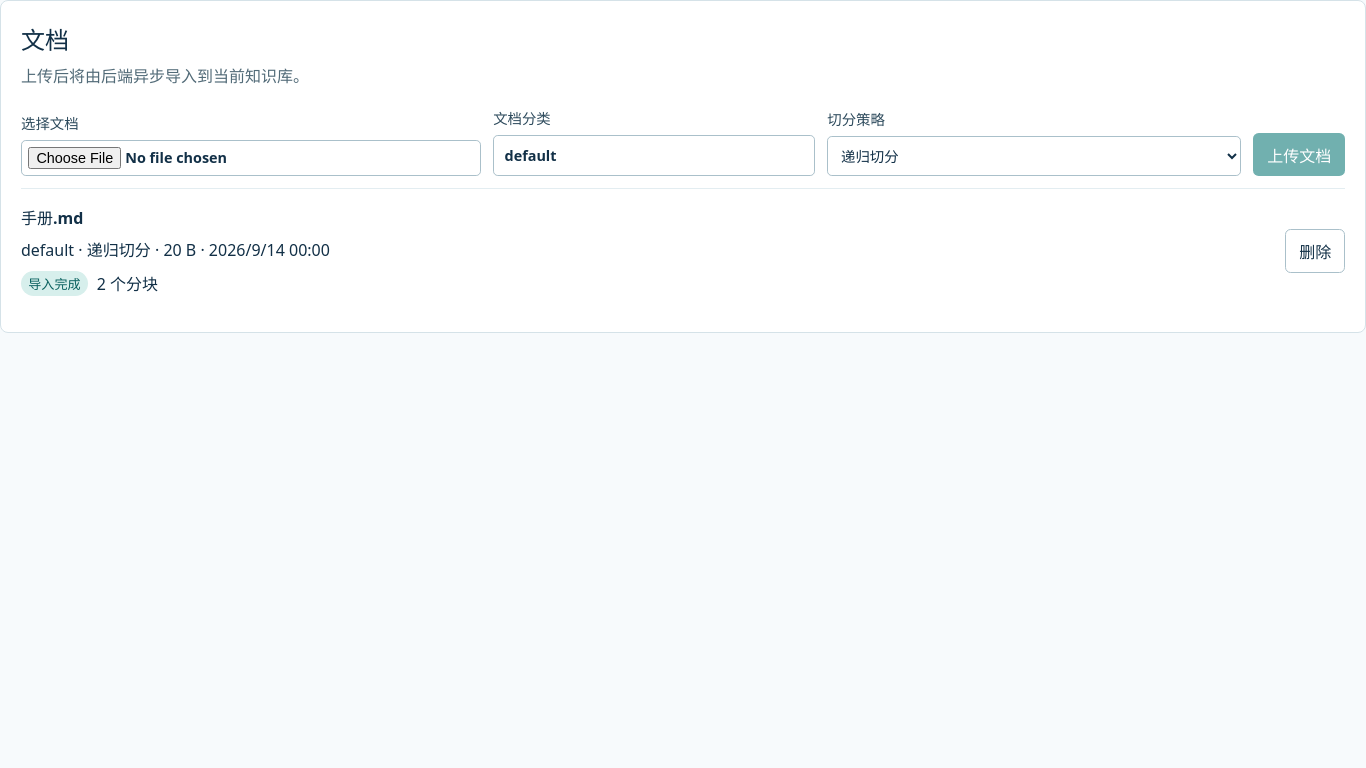
Scenario: 删除文档先要求确认
What coordinates should you click on to do the following:
click the button with aria-label "删除 手册.md"
I would click on:
 (1315, 251)
Its box is [1285,229,1345,273].
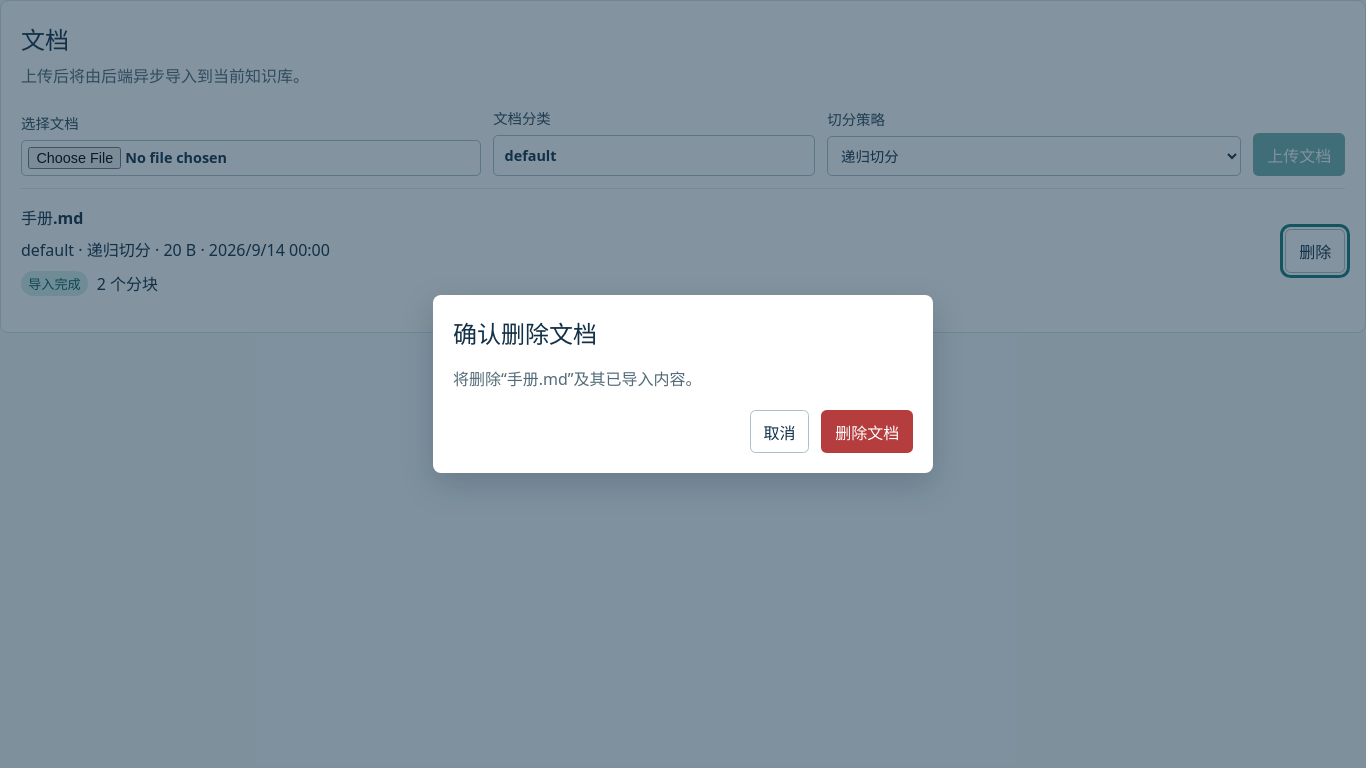
Expected: the dialog "确认删除文档" is shown, [433,295,933,473]
